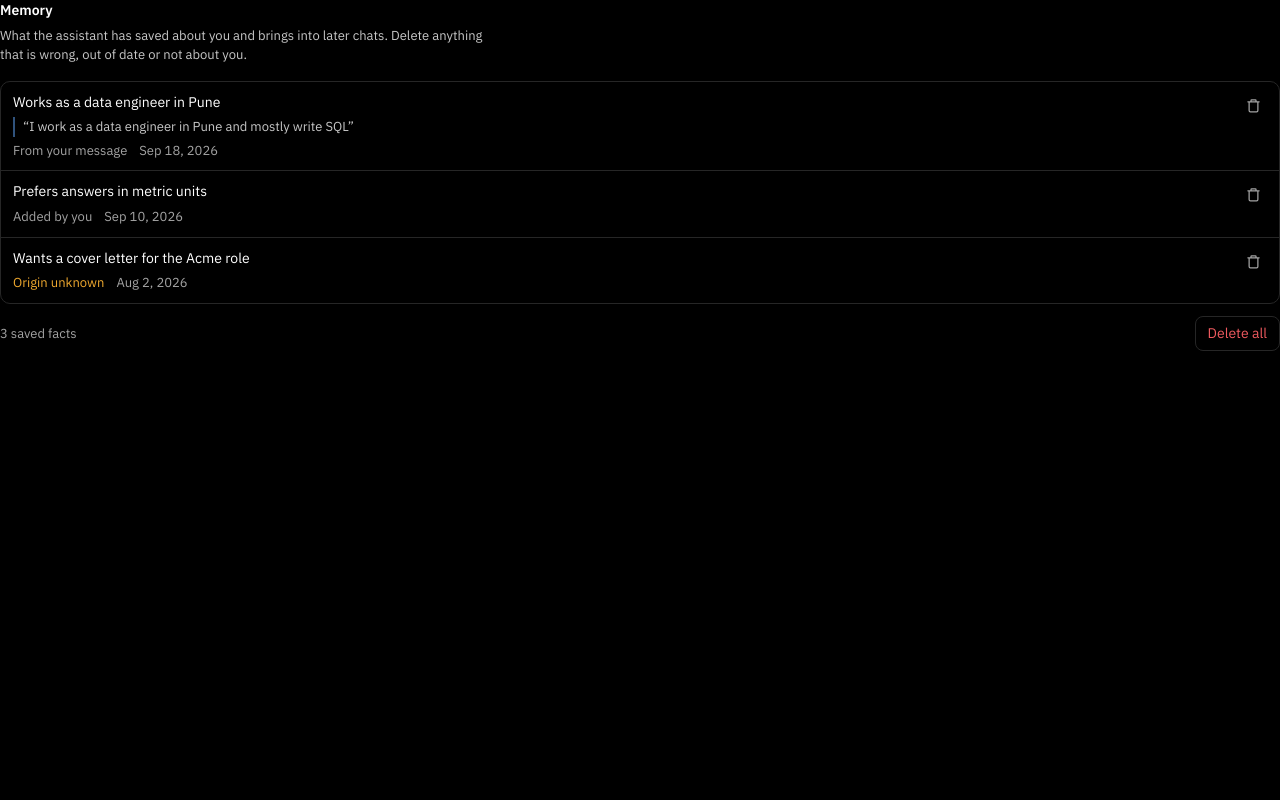
Scenario: MemoryPanel › a failed delete keeps the row and says so
The image size is (1280, 800).
Expected: the number of list items with test id "memory-fact" is 3, [1,82,1279,170]; [1,170,1279,237]; [1,237,1279,303]
What coordinates should you click on to do the following:
click the button named "Delete"
I would click on:
 (1254, 105)
Its box is [1240,92,1267,119].
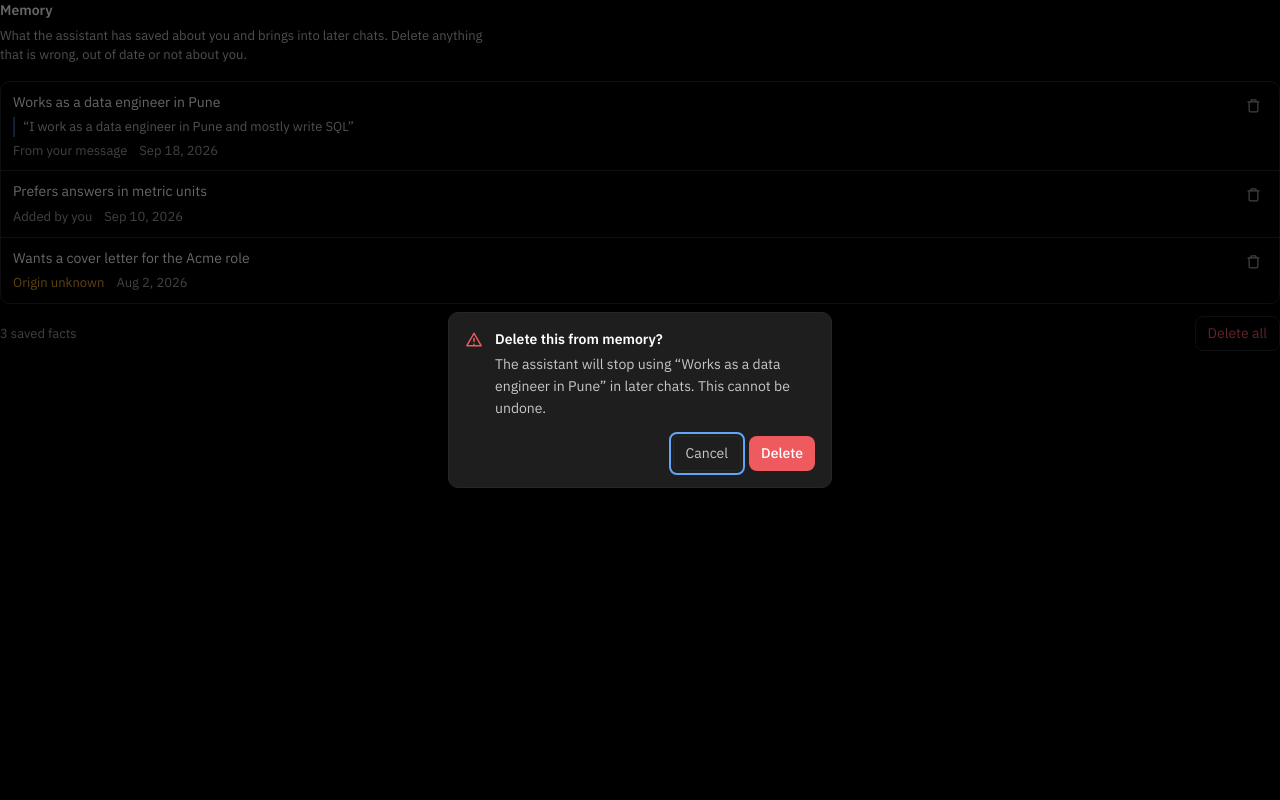
What coordinates should you click on to do the following:
click the button "Delete"
I would click on:
 (782, 453)
Its box is [749,436,815,471].
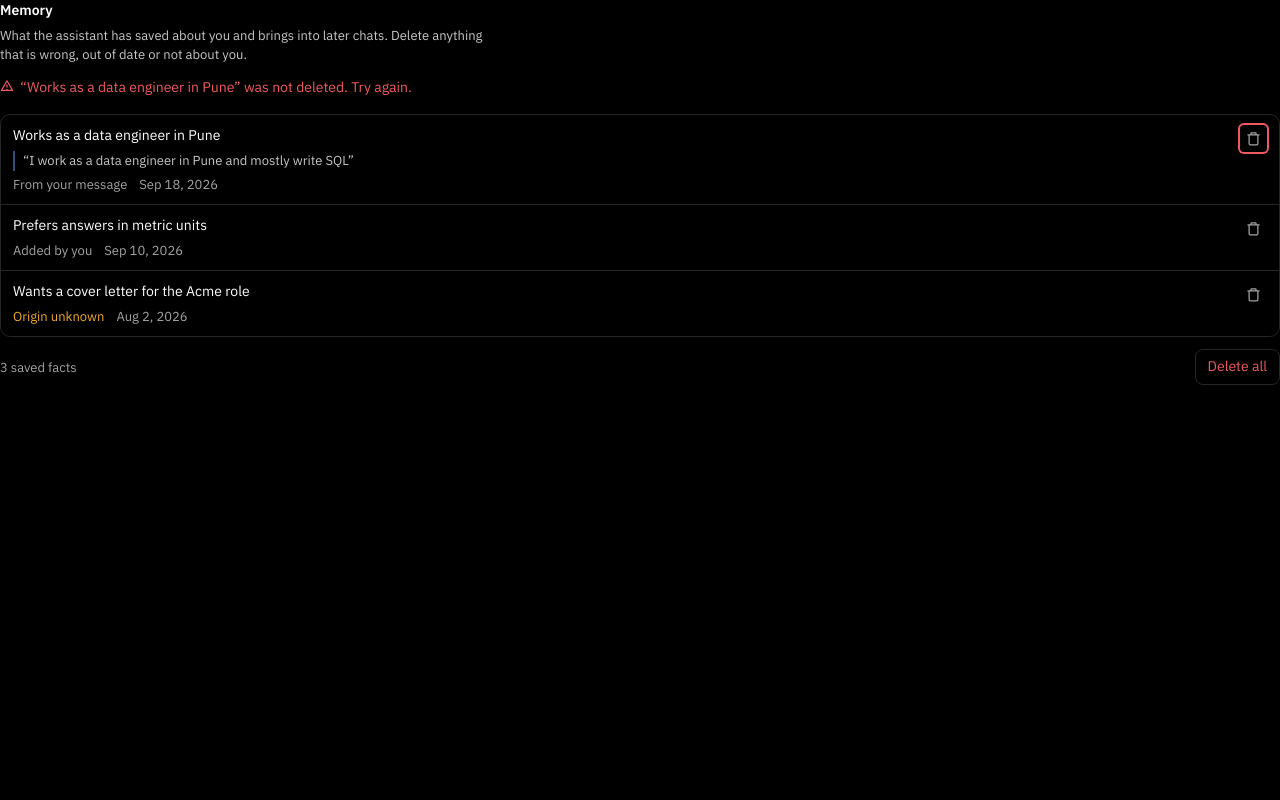
Expected: the number of list items with test id "memory-fact" is 3, [1,115,1279,204]; [1,204,1279,270]; [1,270,1279,336]
Expected: the message shows "was not deleted", [20,78,412,96]
